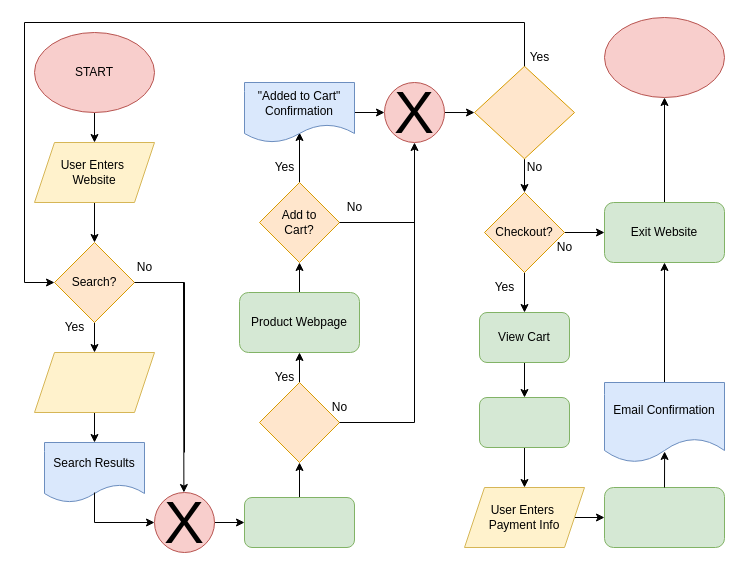
Image size: 742x576. Some labels were removed from this diagram. Here are the shapes that lost their labels. From the top down, the box of each, then its label:
(604, 16, 724, 98): END
(474, 65, 574, 159): Continue Shopping?
(34, 352, 154, 412): Product to Search for
(258, 382, 340, 462): View Item?
(478, 396, 570, 448): View Payment
(244, 496, 354, 548): Explore Results
(604, 486, 724, 548): Checkout
